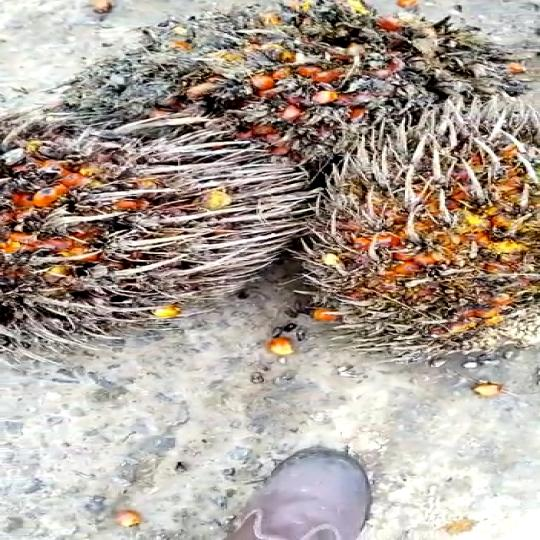terlalu masak: (0, 132, 325, 337), (140, 20, 510, 163)
